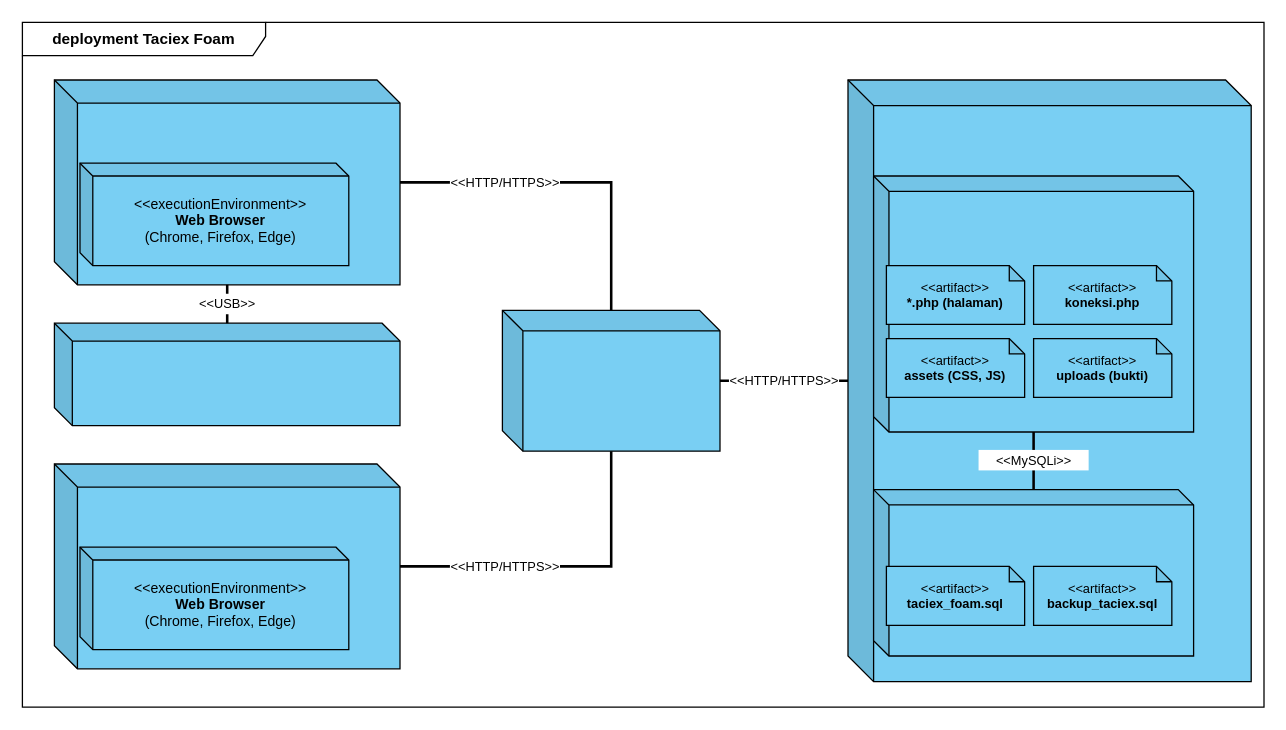
Image size: 1286x730. Some labels were removed from this diagram. Each missing label, with the box of its shape:
<<device>> Laptop / Smartphone Pembeli: (53, 463, 400, 669)
<<device>> PC / Laptop Kasir & Admin: (53, 79, 400, 285)
<<device>> Printer (cetak bukti pemesanan): (53, 322, 400, 426)
<<device>> Server Toko (PC / Laptop) Windows / Linux / macOS: (847, 79, 1251, 682)
<<executionEnvironment>> MySQL Database: (872, 488, 1194, 656)
<<executionEnvironment>> XAMPP: Apache Web Server + PHP: (872, 175, 1194, 432)
<<node>> Jaringan Lokal (LAN / Wi-Fi): (501, 309, 720, 451)
